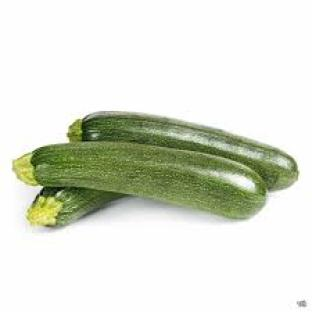Zucchini: (14, 142, 266, 217), (68, 113, 298, 189), (28, 188, 124, 226)
